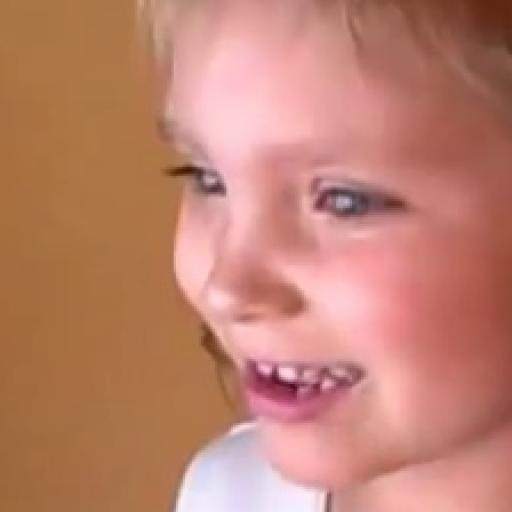Autism: (141, 8, 512, 504)
